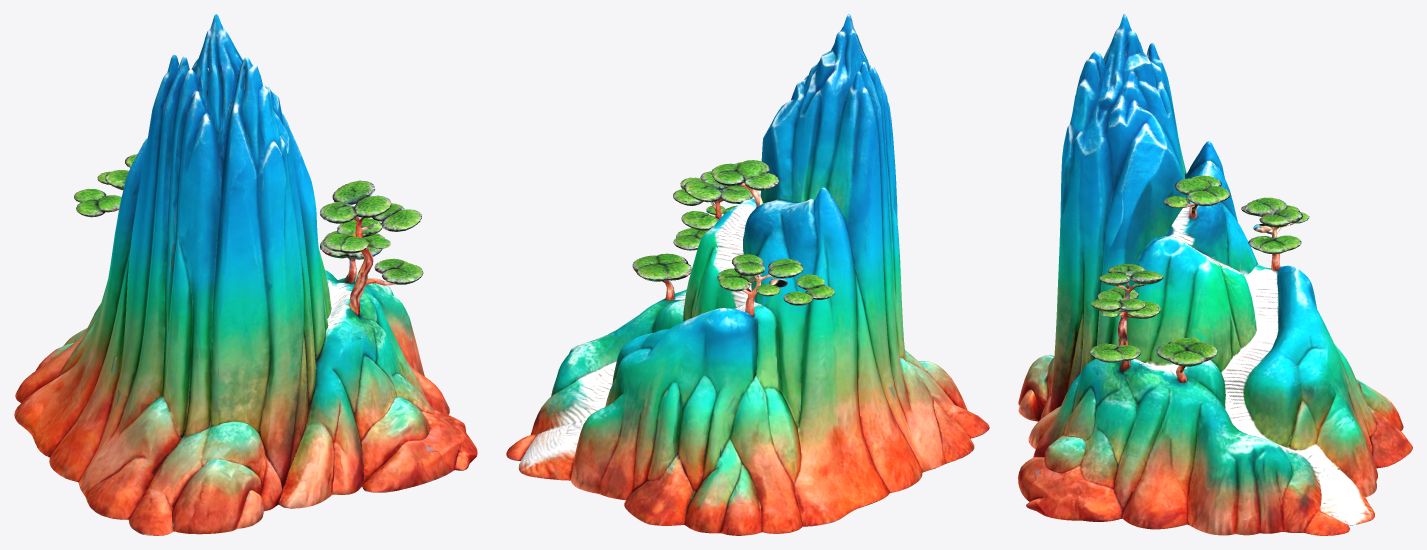
The model's file is ql_mount1.glb.
3 renders of one model, left to right at view 1: azimuth 30°, elevation 25°; view 2: azimuth 150°, elevation 25°; view 3: azimuth 270°, elevation 25°, orthographic. The views are drawn at different scales.
Parts seen in each view (by area): view 1: ql_mount1; view 2: ql_mount1; view 3: ql_mount1.
Boxes of the visible parts, x1,y1,x2,y2 form: ql_mount1: [14, 14, 477, 535]; ql_mount1: [506, 14, 989, 535]; ql_mount1: [1018, 14, 1412, 535].
Size of the model in its own units: 35.22 by 40 by 34.96.
1 material, 1 textured.
